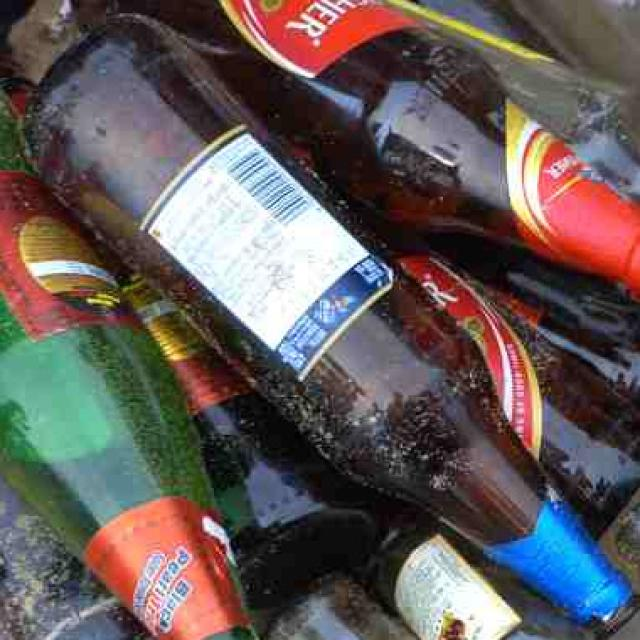giay_goi: (39, 33, 204, 219)
